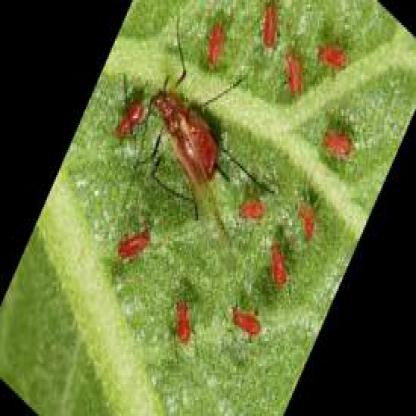uroleucon compositae: (152, 90, 218, 181)
